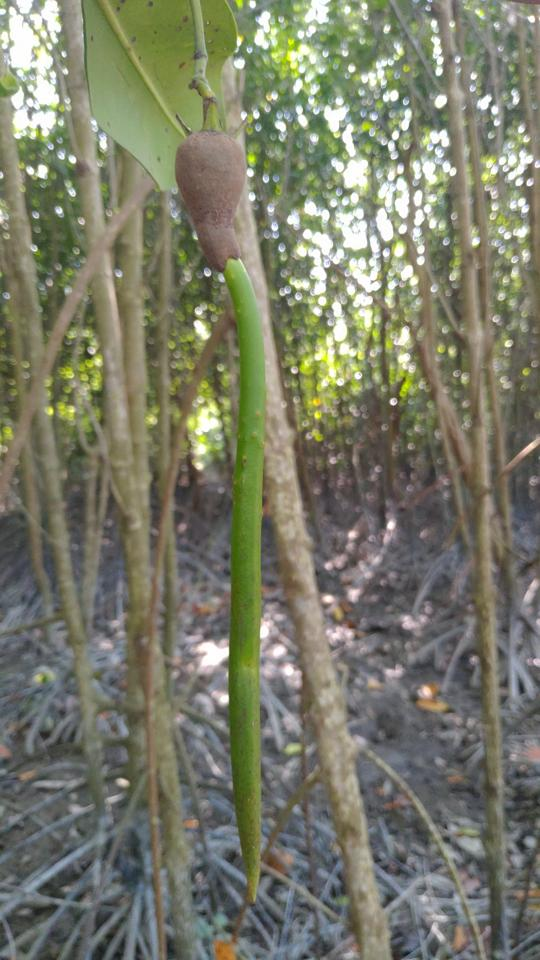mentah: (165, 97, 286, 921)
